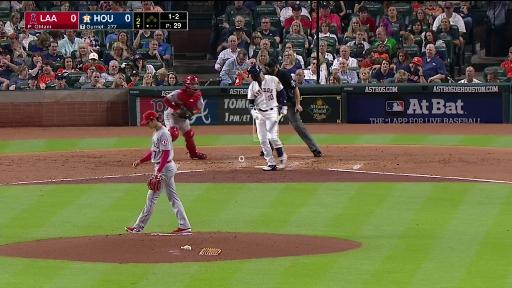pitcher: (126, 110, 192, 233)
